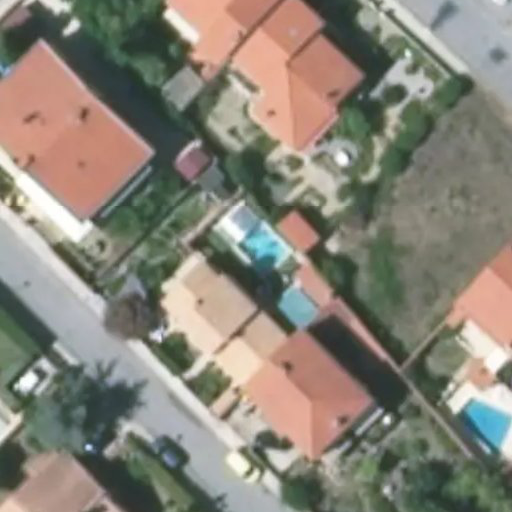pool: (457, 398, 512, 460), (233, 222, 289, 271), (274, 283, 319, 327)
